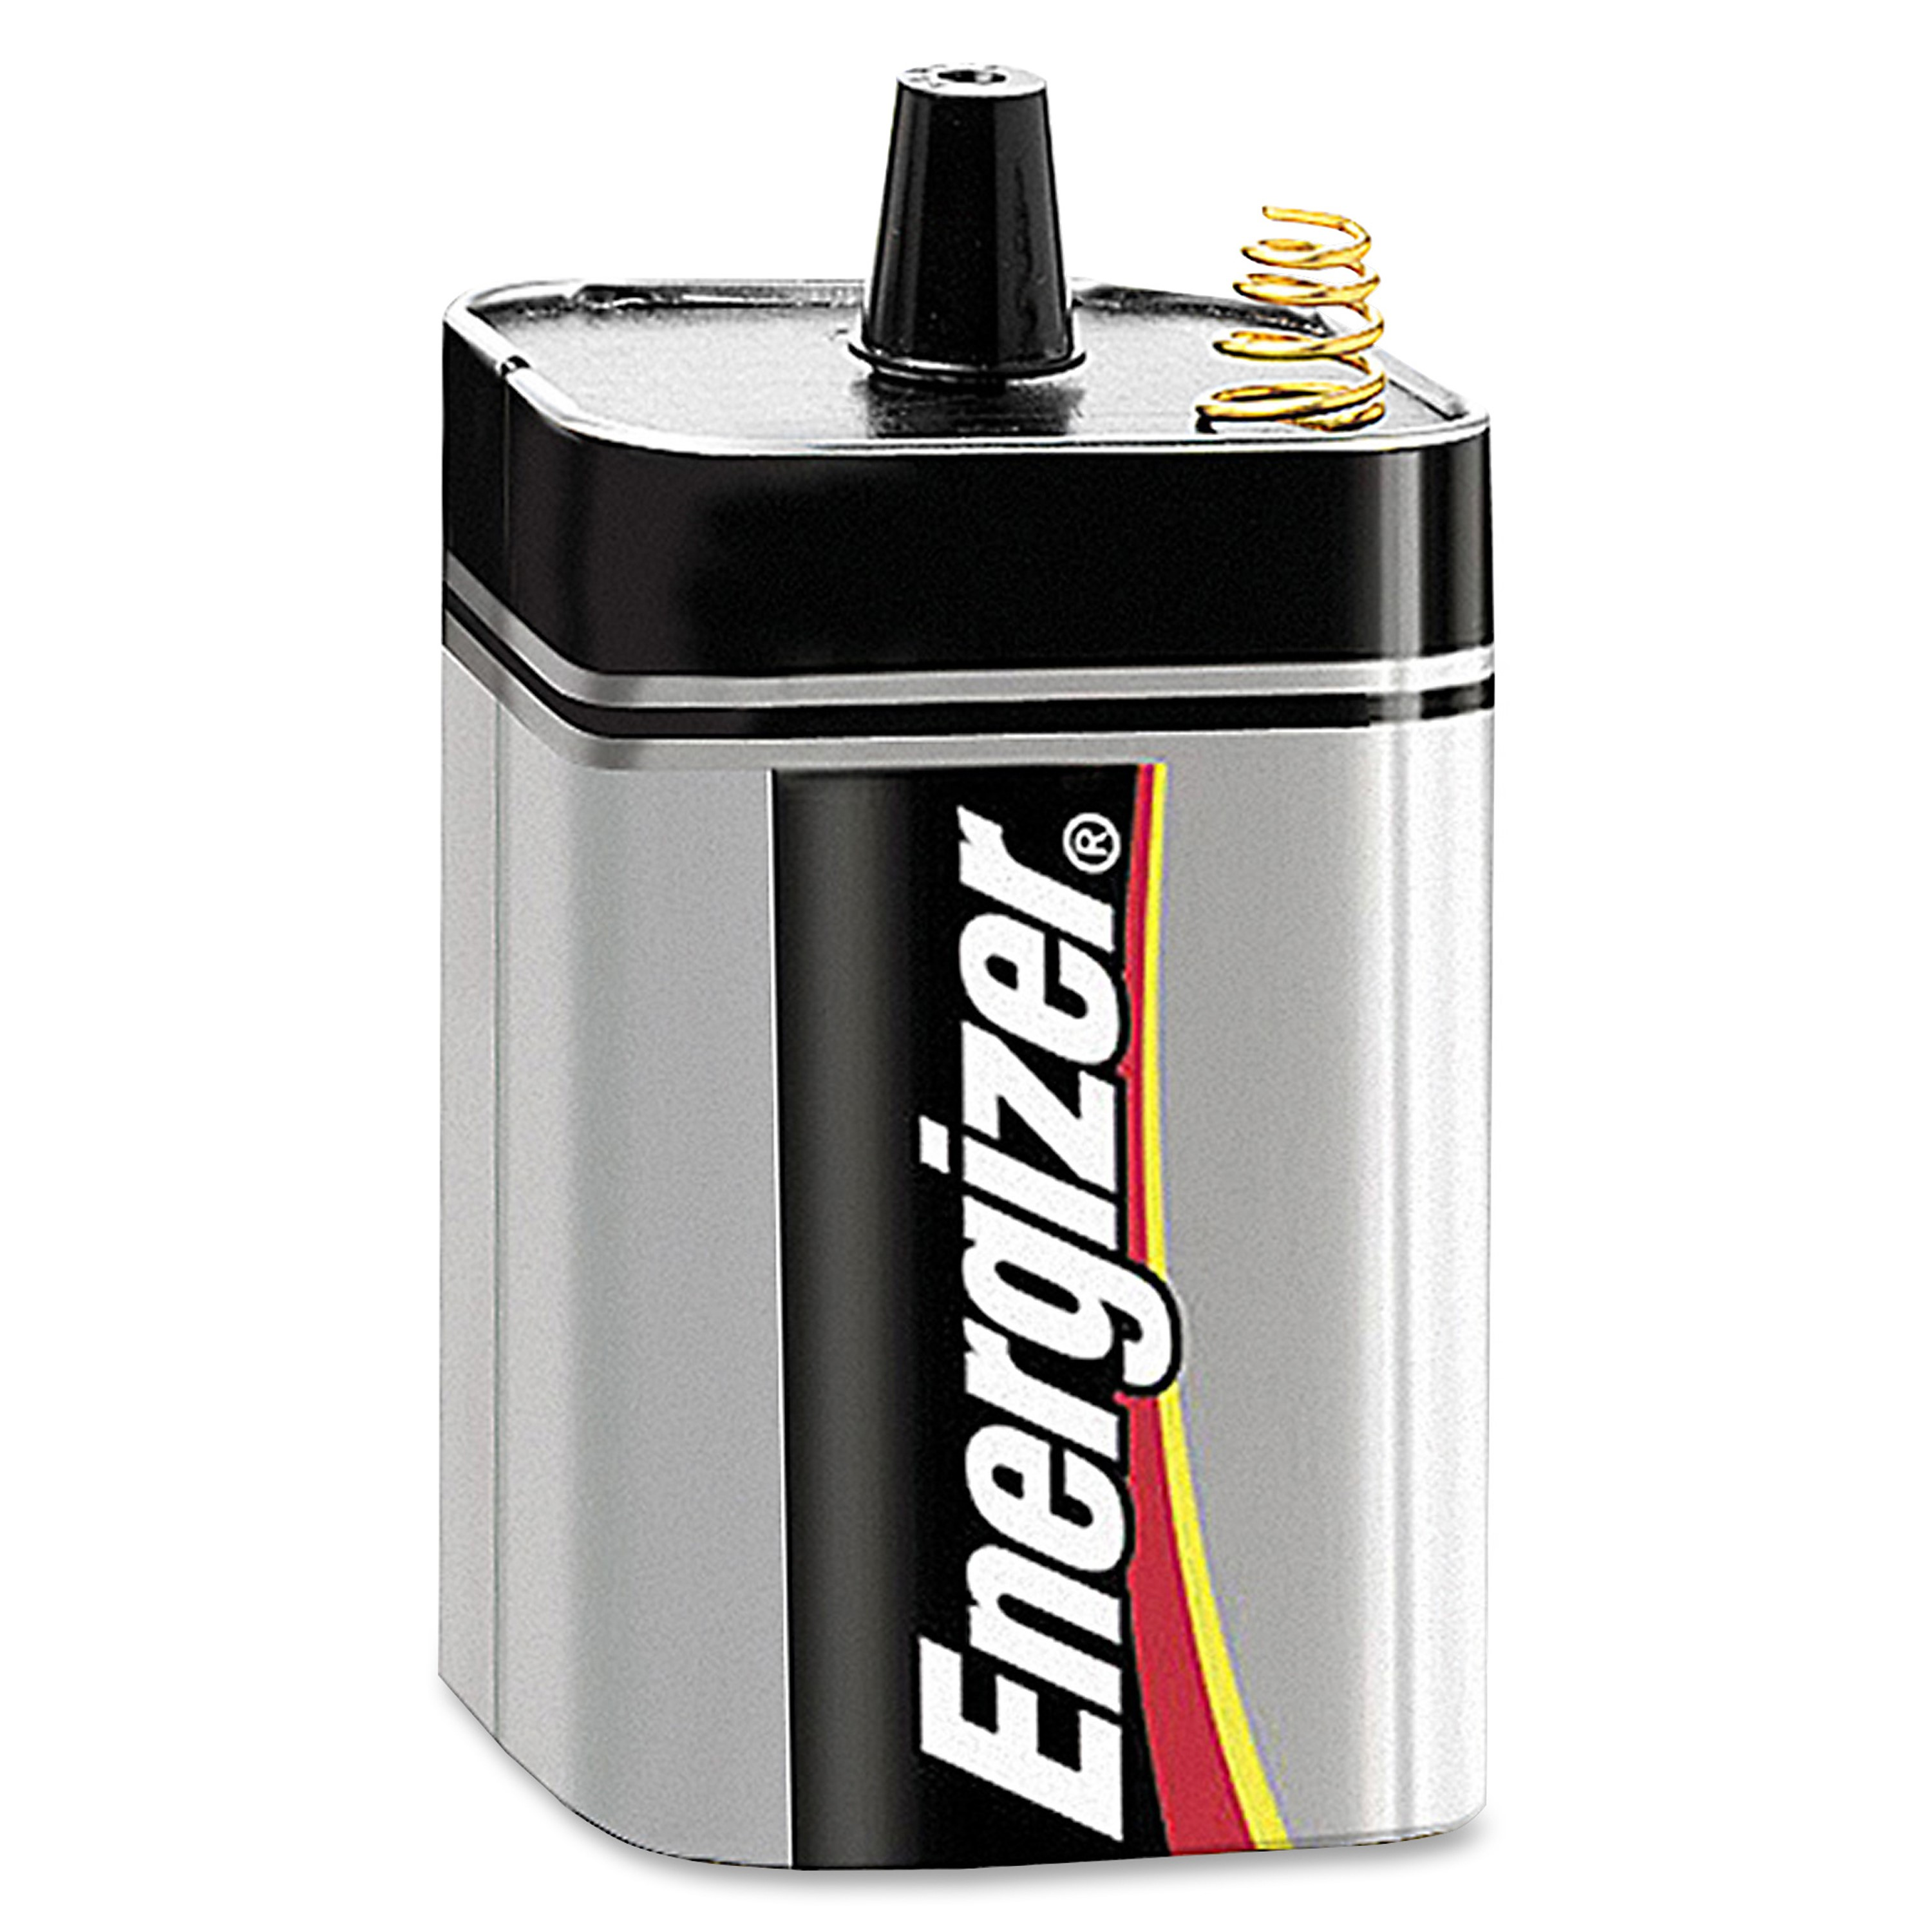6V: (396, 64, 1518, 1881)
